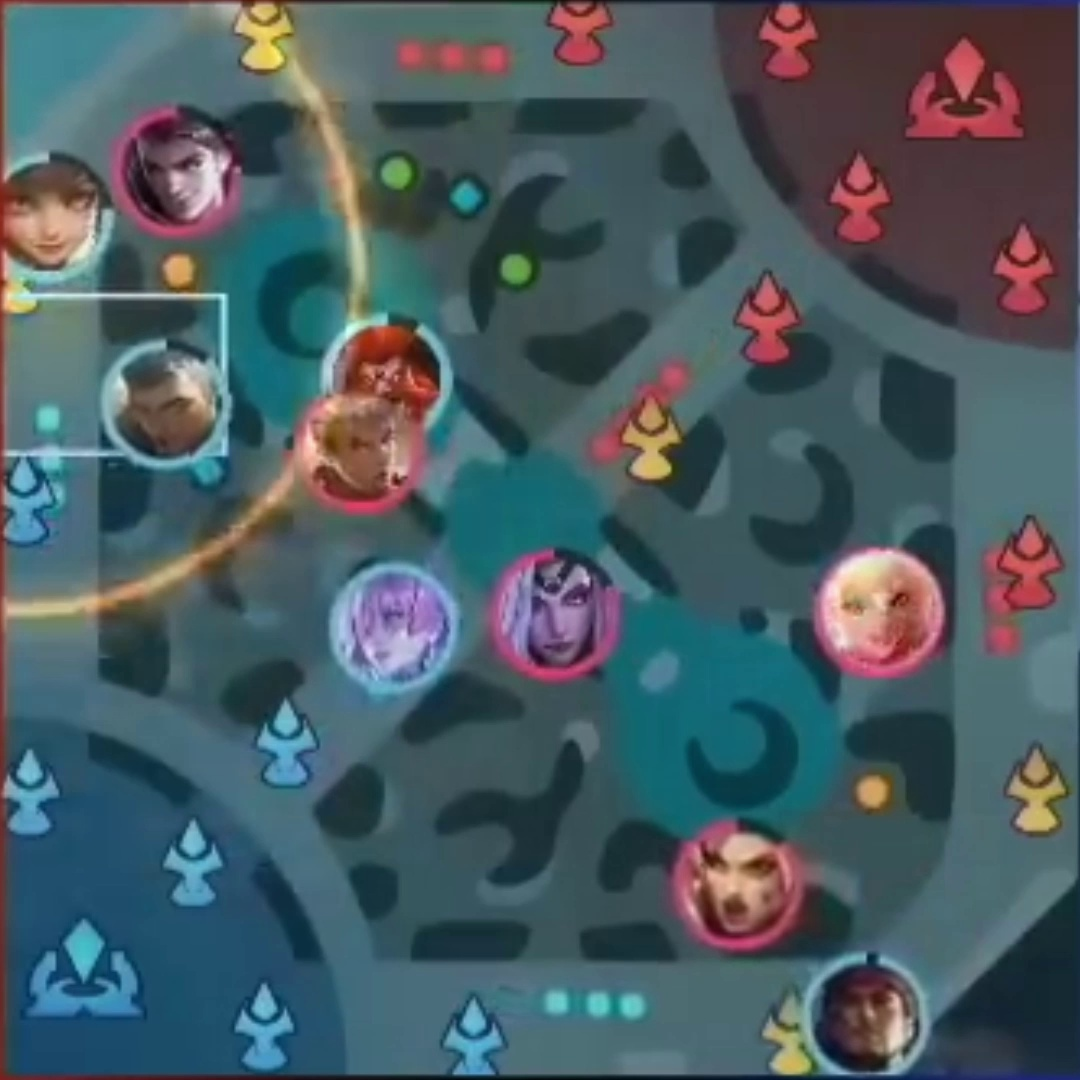Chou: (305, 402, 409, 501)
Claude: (123, 116, 248, 230)
Fanny: (827, 552, 934, 675)
Fredrinn: (109, 341, 220, 460)
Lapu-Lapu: (813, 956, 919, 1072)
Masha: (683, 821, 785, 939)
Minotaur: (337, 324, 444, 403)
Novaria: (335, 568, 450, 685)
Valentina: (502, 557, 622, 661)
Wanwan: (6, 158, 105, 273)
